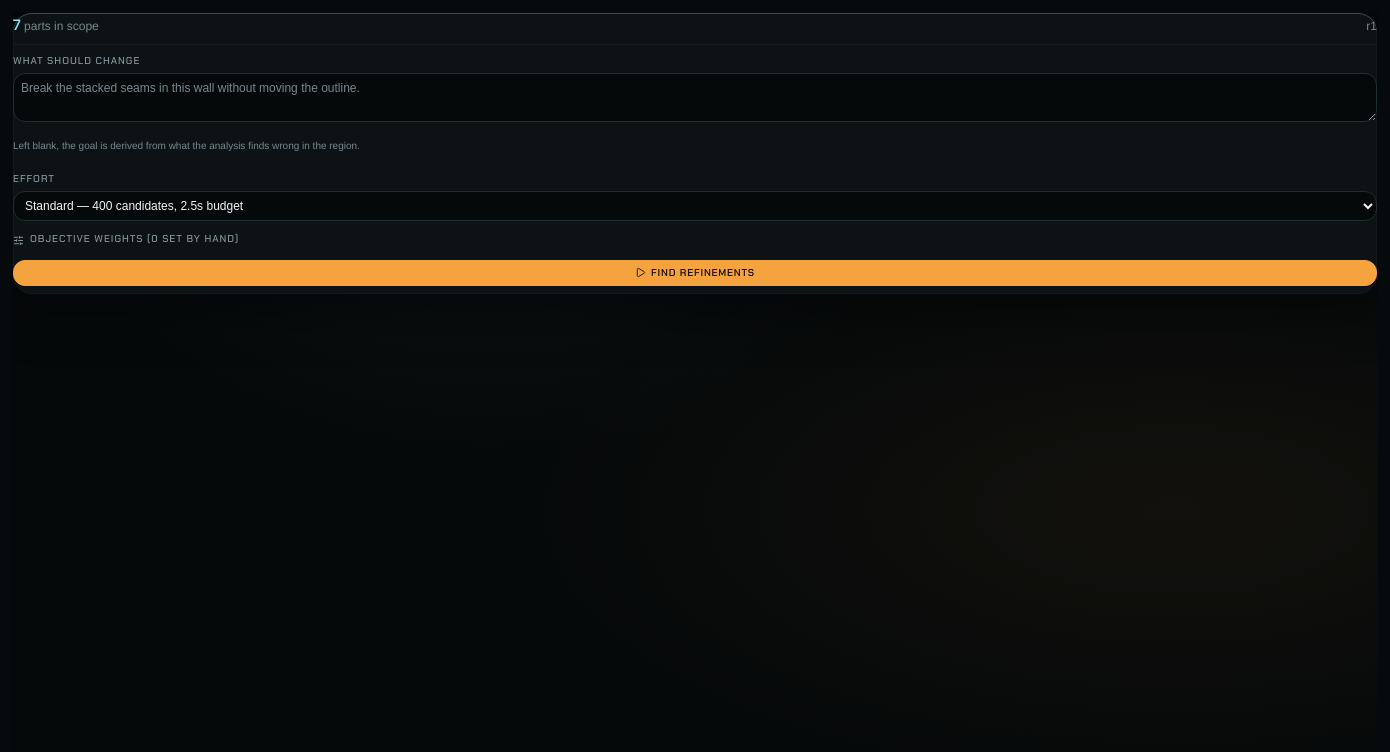
Test: cancel › keeps whatever was verified before the stop as explicitly partial results
Click the button "Find refinements". click: click(695, 273)
box: [13,260,1377,286]
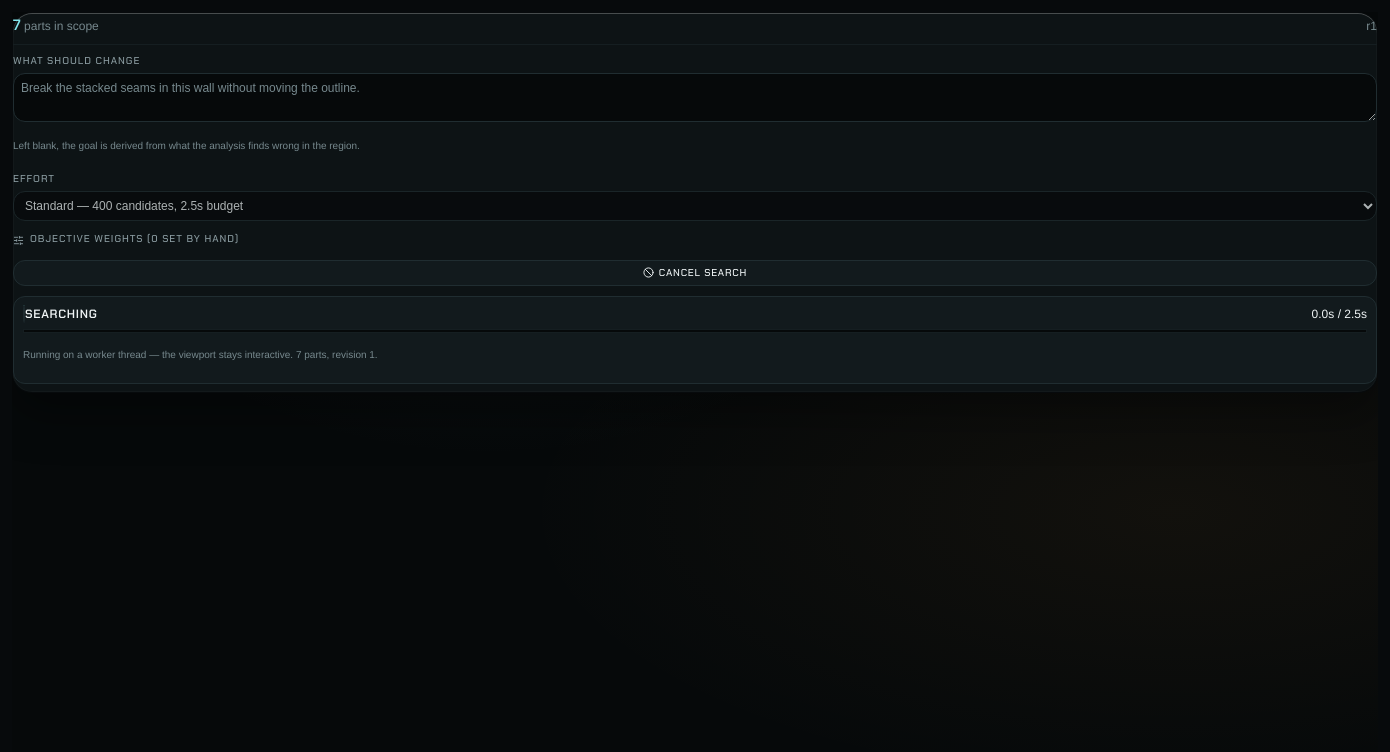
Click the button "Cancel search". click: click(695, 273)
box: [13,260,1377,286]
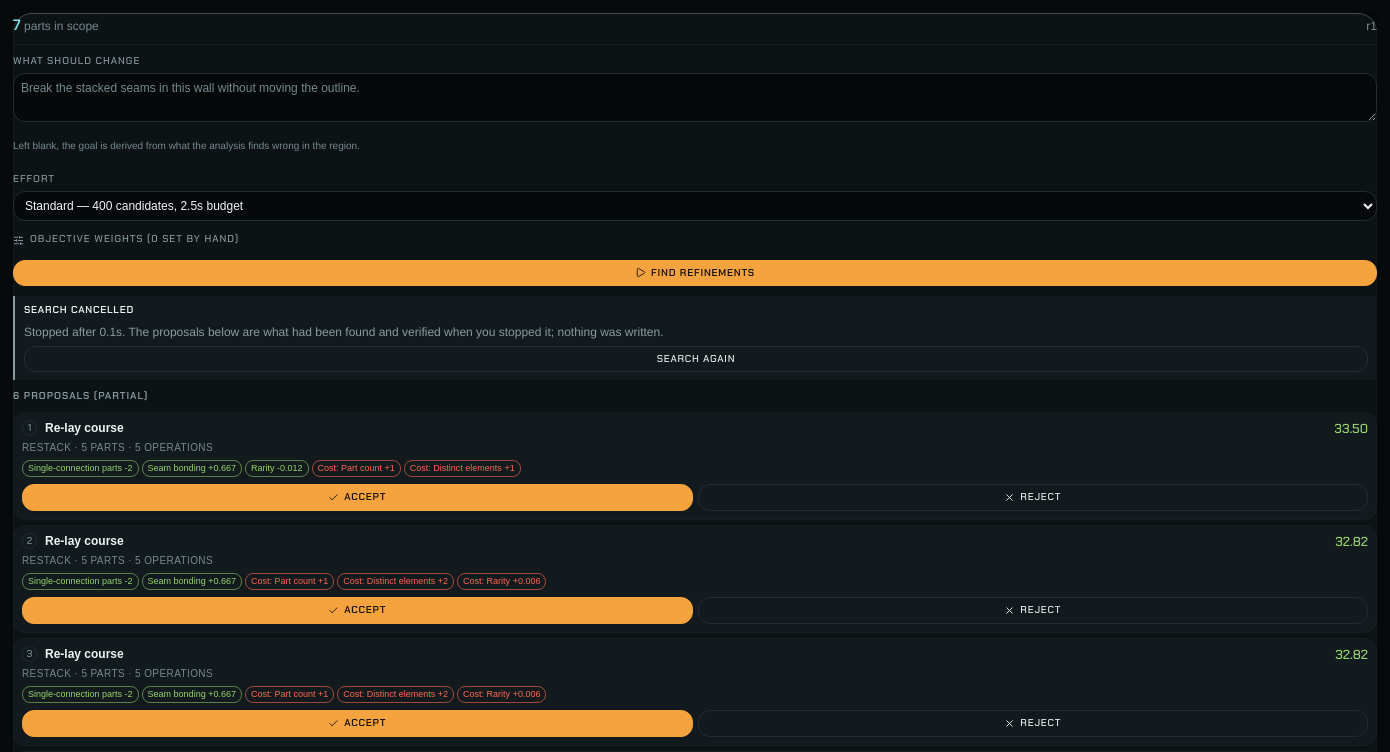
Check: the text "proposals below are what had been found" is shown, box [24,324,664,338]
Check: the heading "6 proposals (partial)" is shown, box [13,390,148,403]
